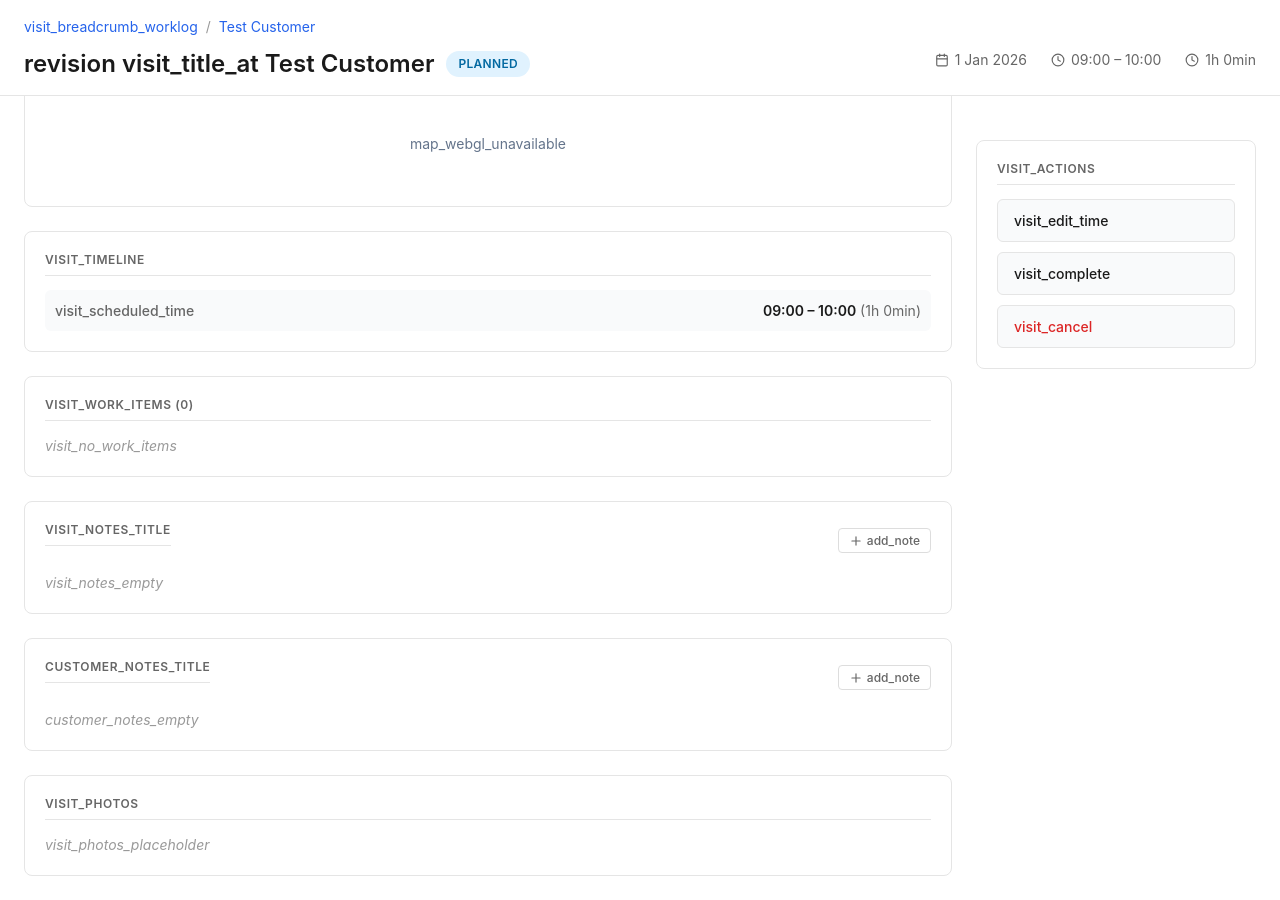
Test: VisitDetail — unified notes workspace › VD9: newly created note appears in list after creation
(page scrolled)
Click the button with test id "add-visit-note-btn" at (884, 540), box [838,528,931,553]
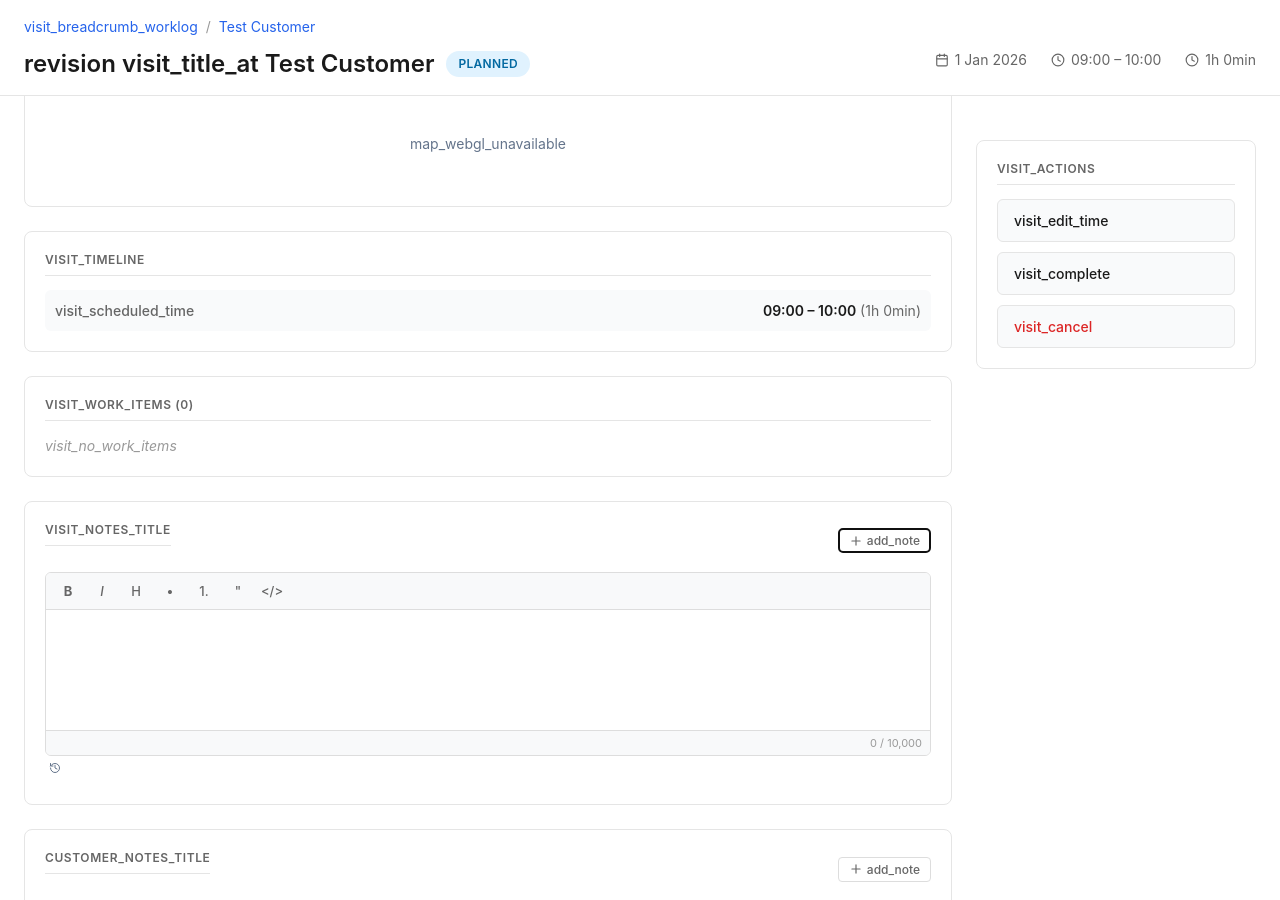
Expected: the element with test id "note-row-new-note-001" is shown, [45,572,931,776]
